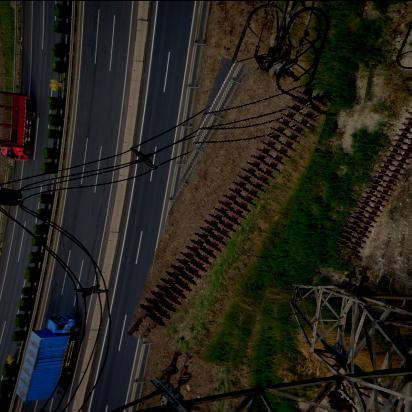insulator: (151, 63, 314, 368), (343, 66, 412, 270), (328, 389, 356, 412)
